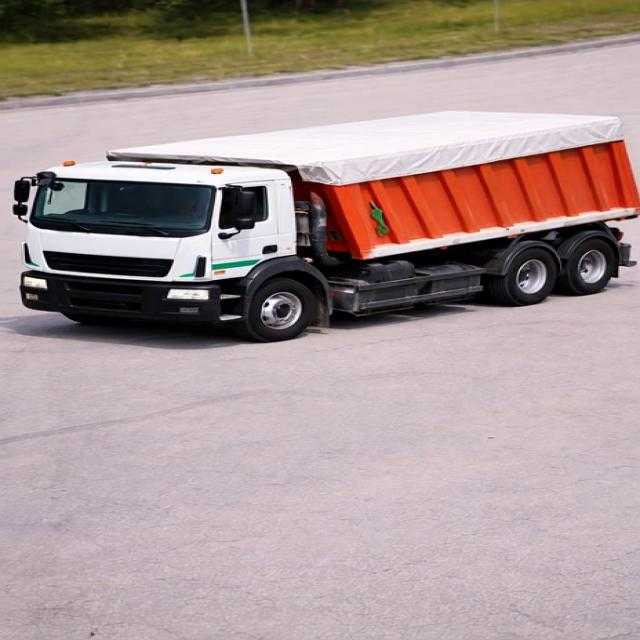Box: (98, 112, 634, 169)
Truck: (10, 76, 639, 350)
